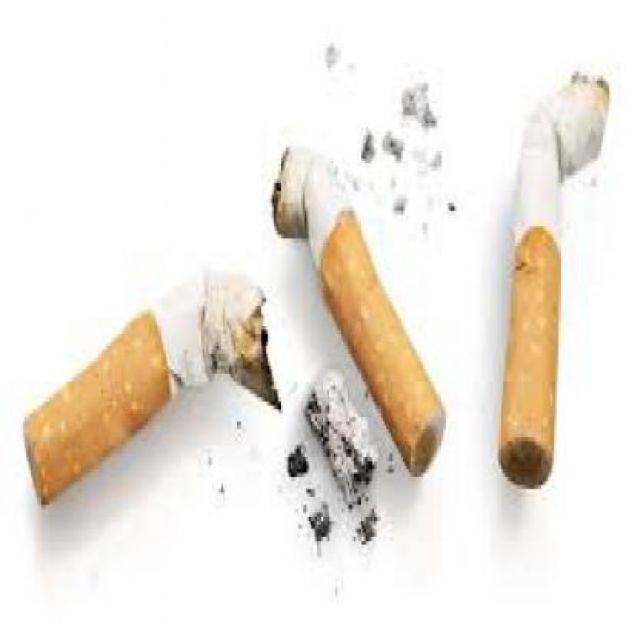cigarette: (22, 250, 282, 548), (270, 127, 450, 481), (496, 68, 612, 497)
